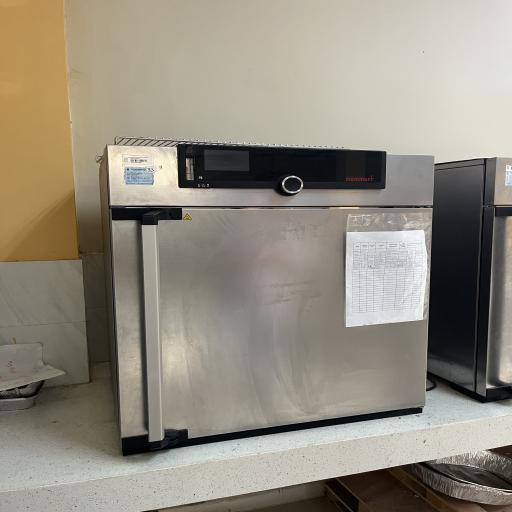Memmert_Unidad2: (85, 124, 446, 463)
